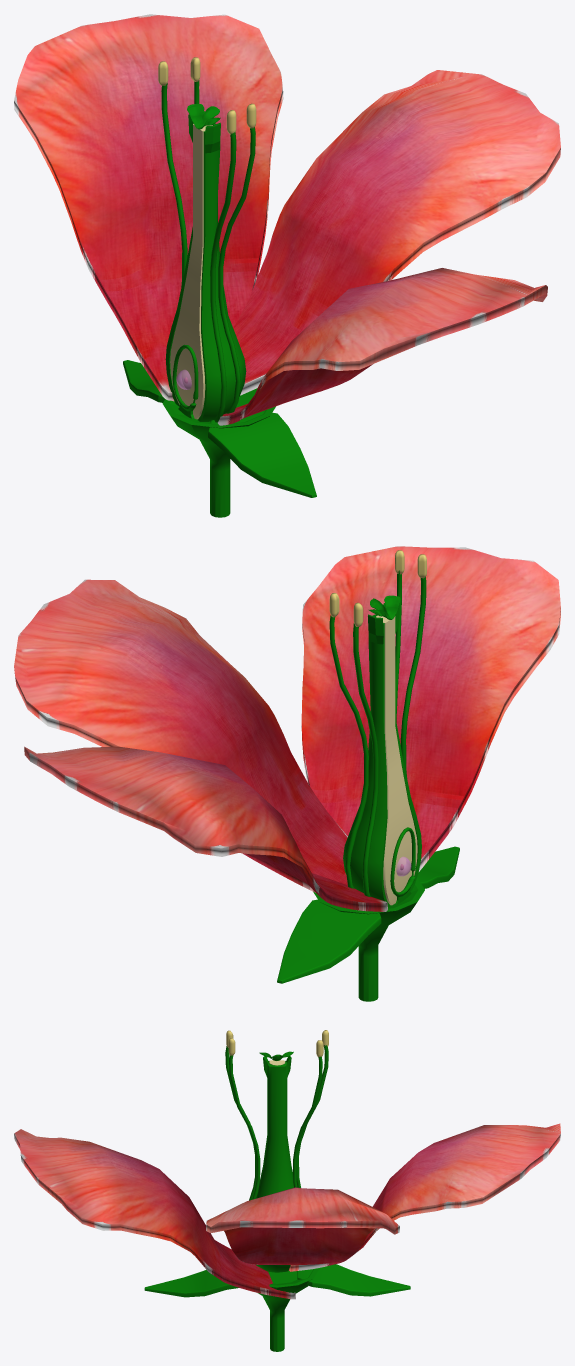
File: parts_of_flower.fbx
The picture shows the model from 3 angles, top to bottom: view 1: azimuth 30°, elevation 25°; view 2: azimuth 150°, elevation 25°; view 3: azimuth 270°, elevation 25°; orthographic projection. The views are drawn at different scales.
Visible parts, largest first — view 1: petal6, petal7, petal8, style, sepal1, polySurface2, stem1, filament2, filament3, filament, sepal, ovule; view 2: petal8, petal7, petal6, style, polySurface2, sepal, stem1, filament, filament1, filament2, sepal1, ovule (+1 smaller); view 3: petal8, petal6, petal7, style, sepal, stem1, sepal1, filament3, filament1, filament.
Part boxes in pixels (left/top/right/bottom): petal6: left=14, top=14, right=283, bottom=401; petal7: left=233, top=70, right=560, bottom=395; petal8: left=217, top=268, right=547, bottom=425; style: left=165, top=111, right=246, bottom=421; sepal1: left=208, top=411, right=316, bottom=497; polySurface2: left=170, top=124, right=212, bottom=419; stem1: left=162, top=388, right=275, bottom=517; filament2: left=210, top=132, right=236, bottom=422; filament3: left=218, top=127, right=255, bottom=413; filament: left=161, top=83, right=187, bottom=286; sepal: left=123, top=360, right=164, bottom=402; ovule: left=172, top=344, right=198, bottom=418; petal8: left=301, top=546, right=560, bottom=871; petal7: left=14, top=579, right=358, bottom=910; petal6: left=24, top=746, right=387, bottom=911; style: left=343, top=603, right=421, bottom=907; polySurface2: left=376, top=615, right=417, bottom=905; sepal: left=277, top=899, right=381, bottom=983; stem1: left=313, top=878, right=424, bottom=1001; filament: left=353, top=623, right=378, bottom=896; filament1: left=329, top=615, right=368, bottom=888; filament2: left=400, top=577, right=426, bottom=778; sepal1: left=417, top=846, right=459, bottom=888; ovule: left=390, top=827, right=415, bottom=904; petal8: left=14, top=1129, right=295, bottom=1299; petal6: left=289, top=1123, right=560, bottom=1271; petal7: left=206, top=1187, right=399, bottom=1264; style: left=256, top=1056, right=293, bottom=1272; sepal: left=297, top=1264, right=410, bottom=1296; stem1: left=258, top=1268, right=318, bottom=1351; sepal1: left=144, top=1269, right=238, bottom=1297; filament3: left=229, top=1055, right=260, bottom=1199; filament1: left=293, top=1056, right=322, bottom=1187; filament: left=296, top=1045, right=328, bottom=1187.
Bounding box in the file's own units: 35.31 × 39.54 × 63.26.
Materials: 6 (1 with a texture image).
